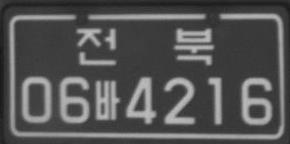0: (21, 76, 51, 123)
1: (202, 76, 231, 126)
2: (163, 75, 196, 125)
4: (126, 77, 156, 124)
6: (240, 76, 274, 126), (58, 75, 90, 123)
바: (94, 78, 121, 121)
전북_D: (75, 26, 213, 65)
